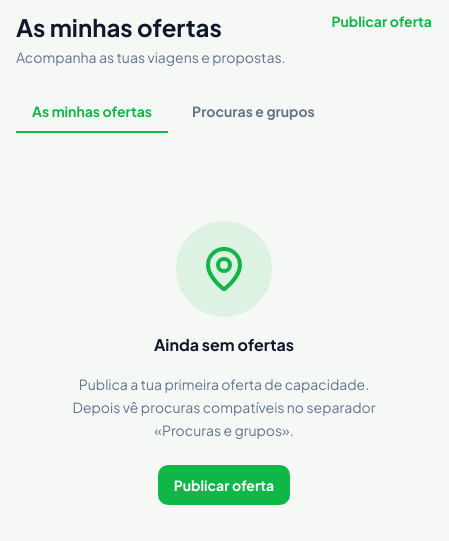
PACOTE ENG #26 — hub motorista procuras e grupos › hub sem ofertas: tab Procuras lista marketplace e permite Enviar proposta
This screenshot has width=449, height=541.
Expected: the element with test id "driver-hub-tabs" is shown, [16,91,432,133]
Click the tab "Procuras e grupos" at coordinates (254, 112), box [176,91,331,133]
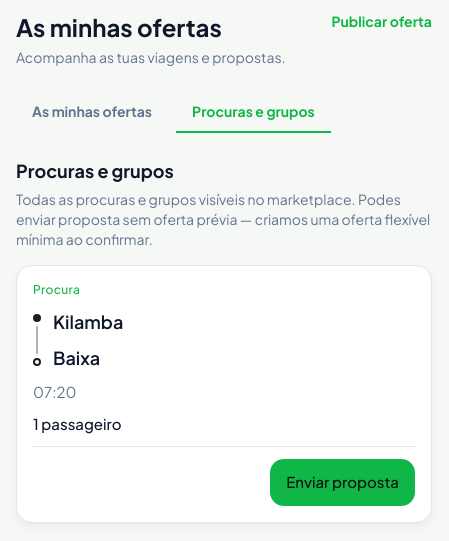
Now the element with test id "driver-procuras-grupos-section" is shown
Now the element with test id "driver-procura-match-card" is shown, box [16,265,432,522]
Now the button "Enviar proposta" is shown, box [270,459,415,506]
